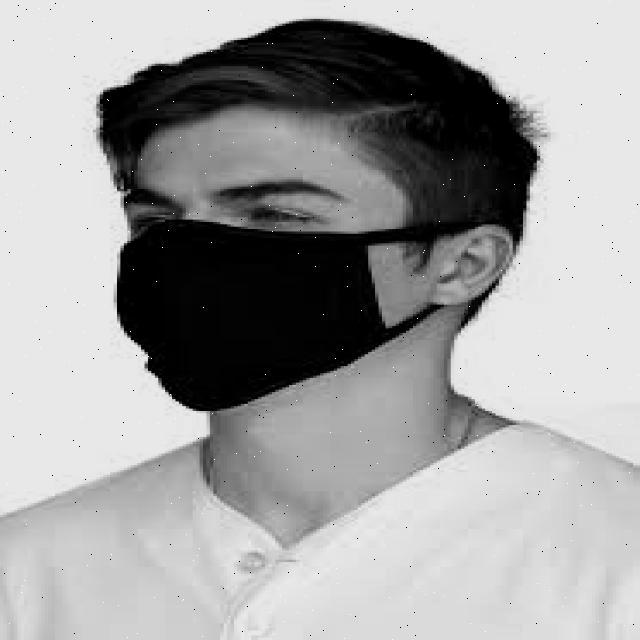fake: (115, 218, 427, 415)
real: (115, 113, 408, 415)
